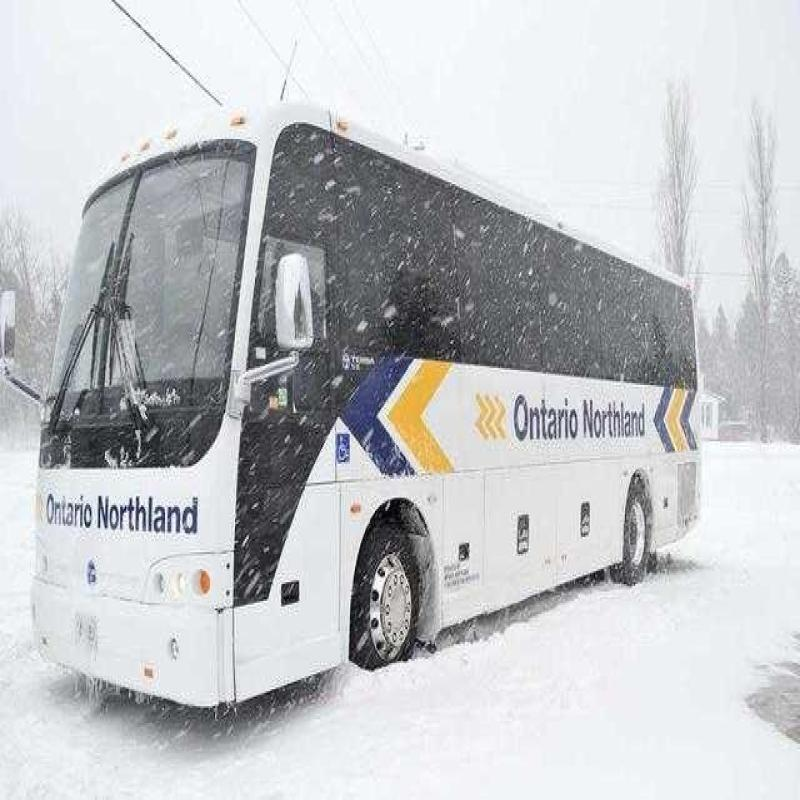bus: (38, 113, 725, 709)
